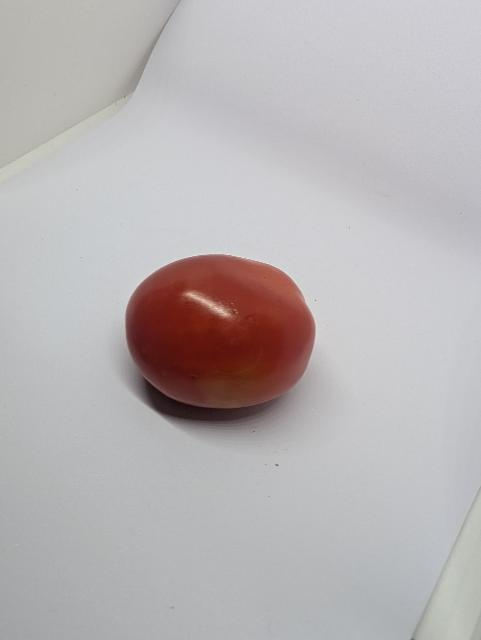red: (105, 234, 345, 433)
